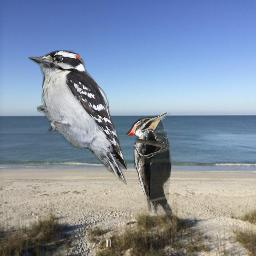Woodpecker: (28, 50, 127, 185), (126, 112, 172, 230)
